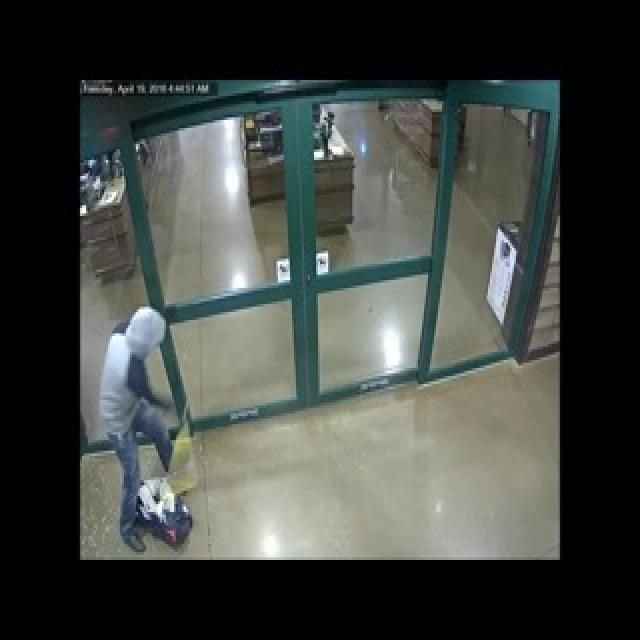thief: (116, 300, 170, 467)
